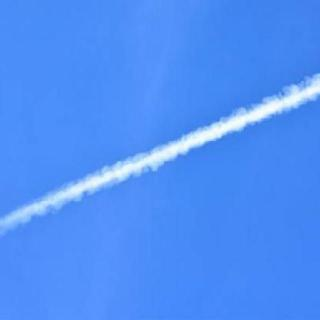Contrails: (0, 78, 320, 244)
